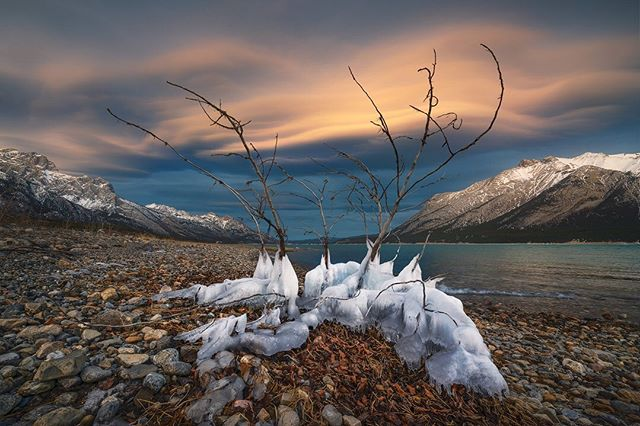mountain: (413, 137, 640, 245), (1, 145, 248, 241)
sky: (13, 1, 640, 177)
tree: (146, 88, 523, 351)
